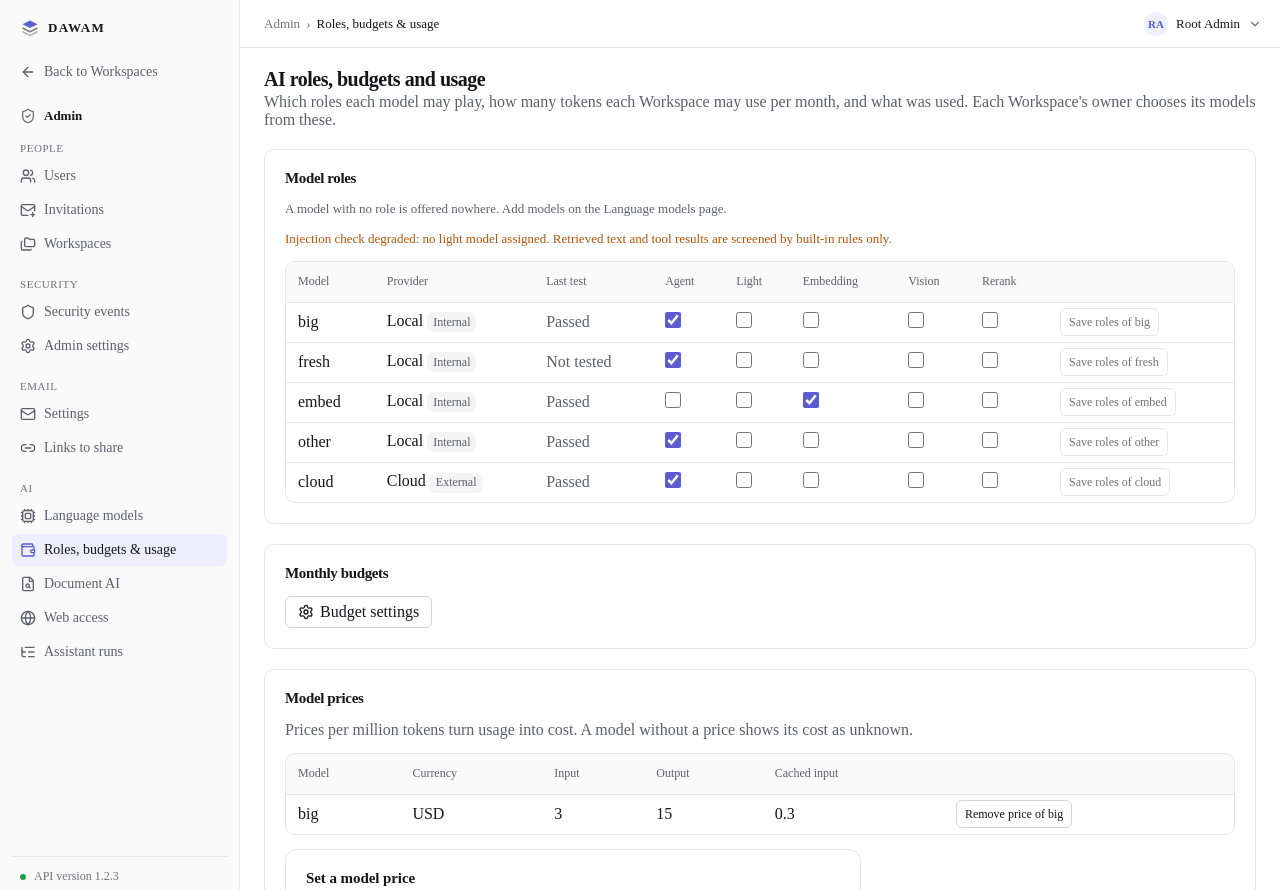
AI roles, budgets and usage page › unticking a role a Workspace depends on › offers an internal-only Workspace only internal models
Click the checkbox named "Agent role of big": [673, 320] box [665, 312, 681, 328]
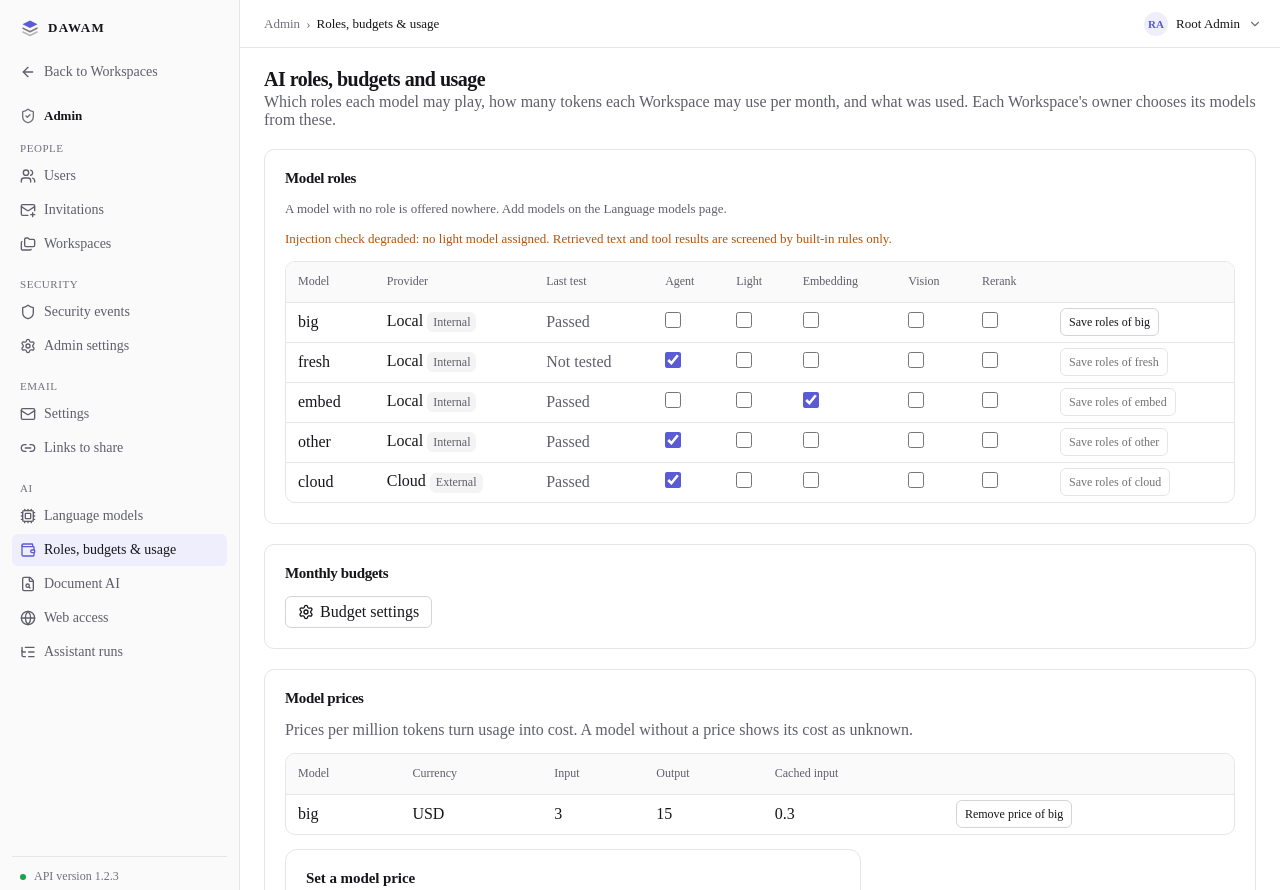
Click the button "Save roles of big": [1110, 322] box [1060, 308, 1159, 336]
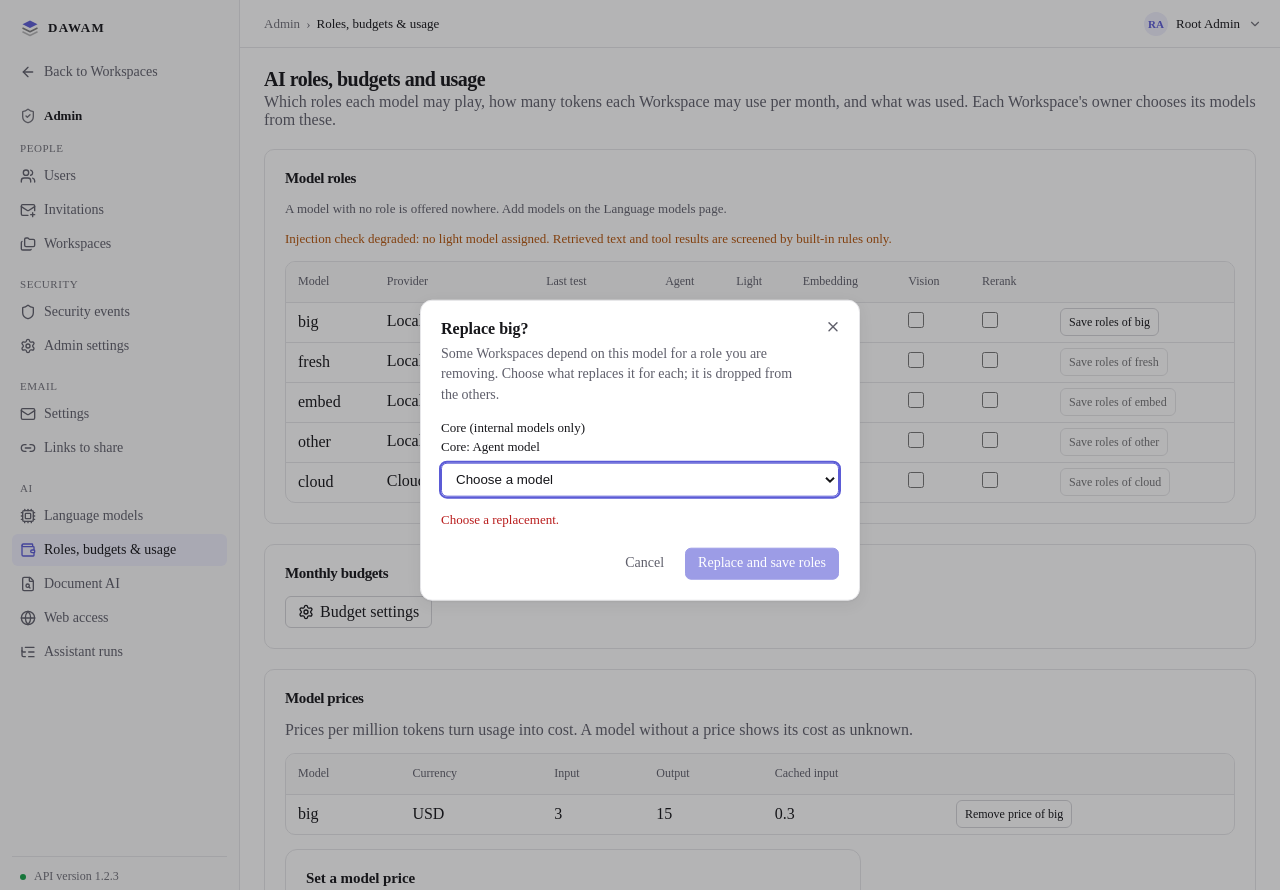
Now the dialog "Replace big?" shows "internal models only", box [466, 420, 585, 435]
